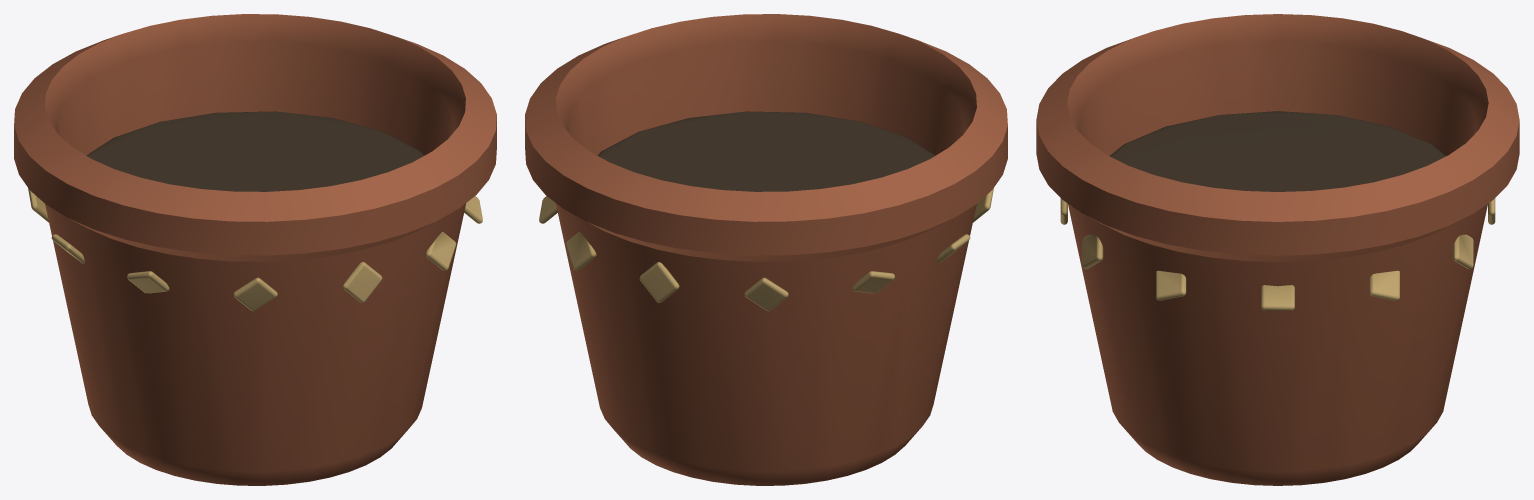
The model's file is fw_planter_terracotta.hi.glb.
3 renders of one model, left to right at view 1: azimuth 30°, elevation 25°; view 2: azimuth 150°, elevation 25°; view 3: azimuth 270°, elevation 25°, orthographic.
Parts seen in each view (by area): view 1: body; view 2: body; view 3: body.
Part boxes in pixels (x1,y1,x2,y2): body: (14, 14, 496, 485); body: (525, 14, 1007, 485); body: (1036, 14, 1519, 485).
Bounding box in the file's own units: 0.78 × 0.57 × 0.78.
